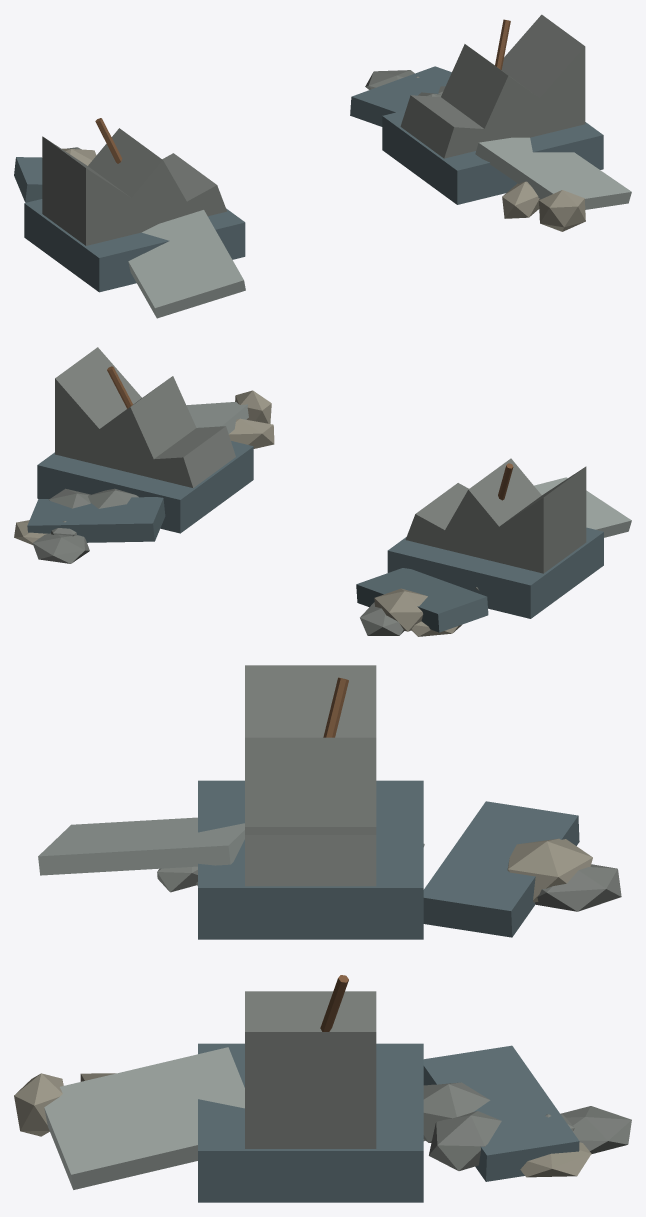
Rendered from wall_standard_d3.glb.
3 renders of one model, top to bottom at view 1: azimuth 30°, elevation 25°; view 2: azimuth 150°, elevation 25°; view 3: azimuth 270°, elevation 25°, orthographic. The views are drawn at different scales.
Visible parts, largest first — view 1: GAME_MESH_STATIC.003; view 2: GAME_MESH_STATIC.003; view 3: GAME_MESH_STATIC.003.
Part boxes in pixels (x1,y1,x2,y2): GAME_MESH_STATIC.003: (14, 14, 631, 318); GAME_MESH_STATIC.003: (14, 347, 631, 636); GAME_MESH_STATIC.003: (14, 665, 631, 1202).
Size of the model in its own units: 4 by 0.9743 by 2.82.
